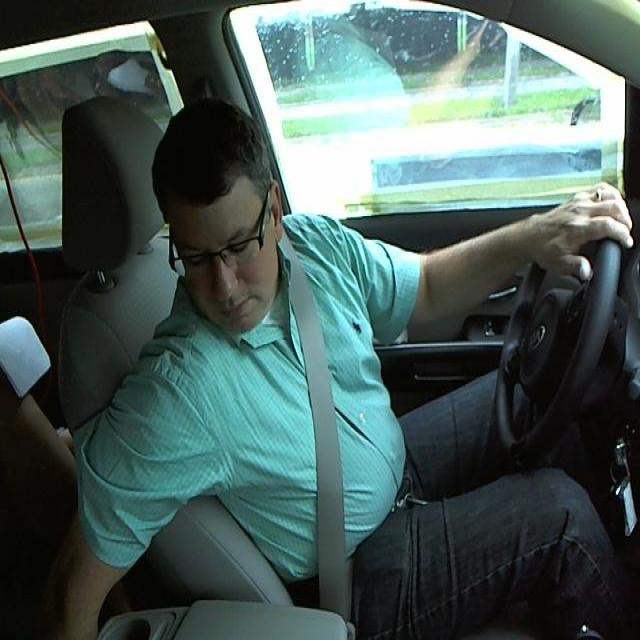seatbelt: (278, 302, 363, 618)
